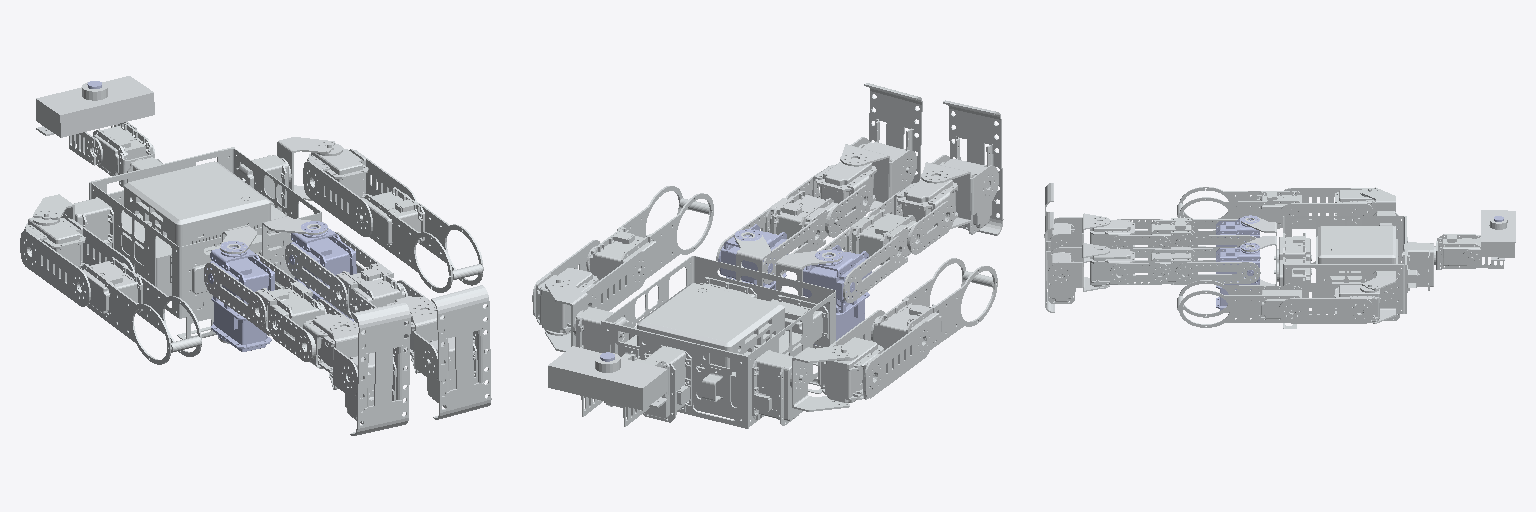
--- Facts derived from the render (not from the file) ---
The picture shows the robot from 3 angles, left to right: view 1: azimuth 30°, elevation 25°; view 2: azimuth 150°, elevation 25°; view 3: azimuth 270°, elevation 25°; orthographic projection.
Robot: webots_natasha — 22 links, 21 joints (21 continuous); root link TRUNK; default pose: all joints at 0.
Visible links, largest first — view 1: TRUNK, LFOOT_link, RFOOT_link, HEAD_1_link, RARM_2_link, LARM_2_link, RARM_1_link, LARM_1_link, LLEG_1_link, RLEG_1_link, RLEG_2_link, RLEG_3_link (+9 smaller); view 2: TRUNK, HEAD_1_link, RARM_1_link, LARM_1_link, LARM_2_link, RARM_2_link, RLEG_1_link, RFOOT_link, LLEG_1_link, RLEG_3_link, LFOOT_link, LLEG_3_link (+8 smaller); view 3: TRUNK, LARM_1_link, LARM_2_link, LLEG_1_link, RARM_1_link, LLEG_3_link, RARM_2_link, RLEG_1_link, HEAD_1_link, RLEG_3_link, LLEG_4_link, HEAD_0_link (+5 smaller).
Boxes of the visible links, box(x1,y1,x2,y2) form: TRUNK: box(73, 147, 321, 339); LFOOT_link: box(425, 285, 491, 419); RFOOT_link: box(345, 302, 410, 435); HEAD_1_link: box(36, 76, 154, 165); RARM_2_link: box(74, 257, 201, 364); LARM_2_link: box(358, 187, 483, 292); RARM_1_link: box(20, 212, 135, 306); LARM_1_link: box(303, 143, 417, 236); LLEG_1_link: box(285, 232, 407, 318); RLEG_1_link: box(204, 253, 326, 338); RLEG_2_link: box(205, 241, 274, 351); RLEG_3_link: box(268, 299, 351, 377); TRUNK: box(573, 256, 835, 428); HEAD_1_link: box(548, 346, 667, 426); RARM_1_link: box(818, 310, 933, 402); LARM_1_link: box(532, 240, 648, 335); LARM_2_link: box(586, 186, 713, 280); RARM_2_link: box(871, 258, 997, 350); RLEG_1_link: box(803, 209, 918, 302); RFOOT_link: box(940, 100, 1003, 235); LLEG_1_link: box(716, 191, 839, 283); RLEG_3_link: box(867, 175, 957, 254); LFOOT_link: box(859, 83, 922, 208); LLEG_3_link: box(786, 158, 876, 237); TRUNK: box(1274, 211, 1435, 328); LARM_1_link: box(1279, 283, 1379, 323); LARM_2_link: box(1177, 280, 1301, 327); LLEG_1_link: box(1151, 247, 1260, 284); RARM_1_link: box(1279, 188, 1375, 228); LLEG_3_link: box(1090, 248, 1170, 287); RARM_2_link: box(1177, 187, 1301, 230); RLEG_1_link: box(1151, 218, 1256, 250); HEAD_1_link: box(1470, 210, 1515, 268); RLEG_3_link: box(1090, 219, 1170, 250); LLEG_4_link: box(1048, 243, 1109, 291); HEAD_0_link: box(1436, 234, 1480, 269).
Size in the robot's own frame: 0.3871 by 0.6896 by 0.1681 metres.
22 mesh visuals loaded from 22 distinct referenced files (22 binary STL).

robot.urdf — webots_natasha:
<?xml version="1.0" encoding="utf-8"?>
<!-- This URDF was automatically created by SolidWorks to URDF Exporter! Originally created by Stephen Brawner ([email redacted]) 
     Commit Version: 1.6.0-1-g15f4949  Build Version: 1.6.7594.29634
     For more information, please see http://wiki.ros.org/sw_urdf_exporter -->
<robot
  name="webots_natasha">
  <link
    name="TRUNK">
    <inertial>
      <origin
        xyz="8.80812350529531E-05 0.0174189130631293 0.00119978114318642"
        rpy="0 0 0" />
      <mass
        value="2.0532534728131" />
      <inertia
        ixx="0.00187086094008197"
        ixy="3.71734862619082E-07"
        ixz="3.35795028816791E-07"
        iyy="0.00246636871242453"
        iyz="-3.76327841832146E-05"
        izz="0.00348484403758483" />
    </inertial>
    <visual>
      <origin
        xyz="0 0 0"
        rpy="0 0 0" />
      <geometry>
        <mesh
          filename="package://webots_natasha/meshes/TRUNK.STL" />
      </geometry>
      <material
        name="">
        <color
          rgba="0.898039215686275 0.917647058823529 0.929411764705882 1" />
      </material>
    </visual>
    <collision>
      <origin
        xyz="0 0 0"
        rpy="0 0 0" />
      <geometry>
        <mesh
          filename="package://webots_natasha/meshes/TRUNK.STL" />
      </geometry>
    </collision>
  </link>
  <link
    name="LARM_0_link">
    <inertial>
      <origin
        xyz="0.00940240087518626 -0.00459323020780422 2.5625727469919E-05"
        rpy="0 0 0" />
      <mass
        value="0.0227126661379003" />
      <inertia
        ixx="1.55987340377569E-05"
        ixy="1.67253121532138E-06"
        ixz="-9.33108665796419E-09"
        iyy="1.69257189782125E-05"
        iyz="-5.55483641362854E-08"
        izz="6.96937791863942E-06" />
    </inertial>
    <visual>
      <origin
        xyz="0 0 0"
        rpy="0 0 0" />
      <geometry>
        <mesh
          filename="package://webots_natasha/meshes/LARM_0_link.STL" />
      </geometry>
      <material
        name="">
        <color
          rgba="0.898039215686275 0.917647058823529 0.929411764705882 1" />
      </material>
    </visual>
    <collision>
      <origin
        xyz="0 0 0"
        rpy="0 0 0" />
      <geometry>
        <mesh
          filename="package://webots_natasha/meshes/LARM_0_link.STL" />
      </geometry>
    </collision>
  </link>
  <joint
    name="LARM_0"
    type="continuous">
    <origin
      xyz="0.1318 0.0615 0.0130000000000001"
      rpy="0 0 0" />
    <parent
      link="TRUNK" />
    <child
      link="LARM_0_link" />
    <axis
      xyz="-1 0 0" />
  </joint>
  <link
    name="LARM_1_link">
    <inertial>
      <origin
        xyz="2.69936341457111E-06 -0.0231641298245469 -0.0307096397868224"
        rpy="0 0 0" />
      <mass
        value="0.313942828750373" />
      <inertia
        ixx="0.000201312815423622"
        ixy="-5.05107454374458E-09"
        ixz="7.03025970863016E-09"
        iyy="7.42237915855182E-05"
        iyz="-2.86966238425839E-06"
        izz="0.000166600144989775" />
    </inertial>
    <visual>
      <origin
        xyz="0 0 0"
        rpy="0 0 0" />
      <geometry>
        <mesh
          filename="package://webots_natasha/meshes/LARM_1_link.STL" />
      </geometry>
      <material
        name="">
        <color
          rgba="0.898039215686275 0.917647058823529 0.929411764705882 1" />
      </material>
    </visual>
    <collision>
      <origin
        xyz="0 0 0"
        rpy="0 0 0" />
      <geometry>
        <mesh
          filename="package://webots_natasha/meshes/LARM_1_link.STL" />
      </geometry>
    </collision>
  </link>
  <joint
    name="LARM_1"
    type="continuous">
    <origin
      xyz="0.0338426329686678 -0.0236234517093273 0.0309322750601258"
      rpy="-0.00557896304881236 0 0" />
    <parent
      link="LARM_0_link" />
    <child
      link="LARM_1_link" />
    <axis
      xyz="0 -0.00557893410814587 0.999984437626015" />
  </joint>
  <link
    name="LARM_2_link">
    <inertial>
      <origin
        xyz="0.0306962270533953 -0.0274919403142502 -0.000520647910192906"
        rpy="0 0 0" />
      <mass
        value="0.281496848216382" />
      <inertia
        ixx="0.000156753433227665"
        ixy="2.86965668977682E-06"
        ixz="-7.03145337261327E-09"
        iyy="7.28961406660007E-05"
        iyz="4.98720536010235E-06"
        izz="0.000170904146038926" />
    </inertial>
    <visual>
      <origin
        xyz="0 0 0"
        rpy="0 0 0" />
      <geometry>
        <mesh
          filename="package://webots_natasha/meshes/LARM_2_link.STL" />
      </geometry>
      <material
        name="">
        <color
          rgba="0.898039215686275 0.917647058823529 0.929411764705882 1" />
      </material>
    </visual>
    <collision>
      <origin
        xyz="0 0 0"
        rpy="0 0 0" />
      <geometry>
        <mesh
          filename="package://webots_natasha/meshes/LARM_2_link.STL" />
      </geometry>
    </collision>
  </link>
  <joint
    name="LARM_2"
    type="continuous">
    <origin
      xyz="-0.0307 -0.113500031528617 -0.0307999828025723"
      rpy="0.00373494942577696 0 0" />
    <parent
      link="LARM_1_link" />
    <child
      link="LARM_2_link" />
    <axis
      xyz="-1 0 0" />
  </joint>
  <link
    name="RARM_0_link">
    <inertial>
      <origin
        xyz="-0.0094024008751864 -0.00459330169048298 -1.11022302462516E-16"
        rpy="0 0 0" />
      <mass
        value="0.0227126661379004" />
      <inertia
        ixx="1.5598734037757E-05"
        ixy="-1.67255724428274E-06"
        ixz="-3.87498910421191E-21"
        iyy="1.69260288836989E-05"
        iyz="-9.86871210932432E-21"
        izz="6.9690680131533E-06" />
    </inertial>
    <visual>
      <origin
        xyz="0 0 0"
        rpy="0 0 0" />
      <geometry>
        <mesh
          filename="package://webots_natasha/meshes/RARM_0_link.STL" />
      </geometry>
      <material
        name="">
        <color
          rgba="0.898039215686275 0.917647058823529 0.929411764705882 1" />
      </material>
    </visual>
    <collision>
      <origin
        xyz="0 0 0"
        rpy="0 0 0" />
      <geometry>
        <mesh
          filename="package://webots_natasha/meshes/RARM_0_link.STL" />
      </geometry>
    </collision>
  </link>
  <joint
    name="RARM_0"
    type="continuous">
    <origin
      xyz="-0.1318 0.0615 0.0130000000000001"
      rpy="0 0 0" />
    <parent
      link="TRUNK" />
    <child
      link="RARM_0_link" />
    <axis
      xyz="1 0 0" />
  </joint>
  <link
    name="RARM_1_link">
    <inertial>
      <origin
        xyz="2.7276139840382E-06 -0.0234065801315187 -0.0304535220772558"
        rpy="0 0 0" />
      <mass
        value="0.310690942542616" />
      <inertia
        ixx="0.000201125130689468"
        ixy="-5.05107366001799E-09"
        ixz="7.03026375288185E-09"
        iyy="7.40361068543428E-05"
        iyz="-2.86965668919047E-06"
        izz="0.000166229085720221" />
    </inertial>
    <visual>
      <origin
        xyz="0 0 0"
        rpy="0 0 0" />
      <geometry>
        <mesh
          filename="package://webots_natasha/meshes/RARM_1_link.STL" />
      </geometry>
      <material
        name="">
        <color
          rgba="0.898039215686275 0.917647058823529 0.929411764705882 1" />
      </material>
    </visual>
    <collision>
      <origin
        xyz="0 0 0"
        rpy="0 0 0" />
      <geometry>
        <mesh
          filename="package://webots_natasha/meshes/RARM_1_link.STL" />
      </geometry>
    </collision>
  </link>
  <joint
    name="RARM_1"
    type="continuous">
    <origin
      xyz="-0.0338426329686679 -0.0237956531967125 0.0307999999999999"
      rpy="0 0 0.00782300250560052" />
    <parent
      link="RARM_0_link" />
    <child
      link="RARM_1_link" />
    <axis
      xyz="0 0 1" />
  </joint>
  <link
    name="RARM_2_link">
    <inertial>
      <origin
        xyz="-0.0308311537115564 -0.0273506992114726 -0.000523962569397157"
        rpy="0 0 0" />
      <mass
        value="0.282950517834651" />
      <inertia
        ixx="0.000156898152501548"
        ixy="-2.86965669176101E-06"
        ixz="-7.03145069111552E-09"
        iyy="7.29711487587658E-05"
        iyz="4.99731421083855E-06"
        izz="0.00017097915418613" />
    </inertial>
    <visual>
      <origin
        xyz="0 0 0"
        rpy="0 0 0" />
      <geometry>
        <mesh
          filename="package://webots_natasha/meshes/RARM_2_link.STL" />
      </geometry>
      <material
        name="">
        <color
          rgba="0.898039215686275 0.917647058823529 0.929411764705882 1" />
      </material>
    </visual>
    <collision>
      <origin
        xyz="0 0 0"
        rpy="0 0 0" />
      <geometry>
        <mesh
          filename="package://webots_natasha/meshes/RARM_2_link.STL" />
      </geometry>
    </collision>
  </link>
  <joint
    name="RARM_2"
    type="continuous">
    <origin
      xyz="0.0307 -0.113500031528617 -0.0308000171974276"
      rpy="0.0178992667652849 0 0" />
    <parent
      link="RARM_1_link" />
    <child
      link="RARM_2_link" />
    <axis
      xyz="0.999969400471955 -0.00782166957684035 0.000140017103543219" />
  </joint>
  <link
    name="LLEG_0_link">
    <inertial>
      <origin
        xyz="0.0061201601702185 -0.0103947051970066 0.000159150199943475"
        rpy="0 0 0" />
      <mass
        value="0.0284955331549314" />
      <inertia
        ixx="5.85885511181256E-05"
        ixy="3.55586878465069E-06"
        ixz="1.21838941386473E-06"
        iyy="5.64262612619879E-05"
        iyz="9.24677152737366E-08"
        izz="1.17667691761212E-05" />
    </inertial>
    <visual>
      <origin
        xyz="0 0 0"
        rpy="0 0 0" />
      <geometry>
        <mesh
          filename="package://webots_natasha/meshes/LLEG_0_link.STL" />
      </geometry>
      <material
        name="">
        <color
          rgba="0.898039215686275 0.917647058823529 0.929411764705882 1" />
      </material>
    </visual>
    <collision>
      <origin
        xyz="0 0 0"
        rpy="0 0 0" />
      <geometry>
        <mesh
          filename="package://webots_natasha/meshes/LLEG_0_link.STL" />
      </geometry>
    </collision>
  </link>
  <joint
    name="LLEG_0"
    type="continuous">
    <origin
      xyz="0.024 -0.1028 -0.00200000000000009"
      rpy="0 0 0" />
    <parent
      link="TRUNK" />
    <child
      link="LLEG_0_link" />
    <axis
      xyz="0 1 0" />
  </joint>
  <link
    name="LLEG_2_link">
    <inertial>
      <origin
        xyz="4.84696185730632E-05 -0.0147653878990638 0.0547754285306541"
        rpy="0 0 0" />
      <mass
        value="0.181419971117388" />
      <inertia
        ixx="7.50577632887605E-05"
        ixy="-4.58251596389431E-07"
        ixz="-9.69786736504418E-14"
        iyy="4.76781981045591E-05"
        iyz="4.49008092003896E-07"
        izz="7.57823946481036E-05" />
    </inertial>
    <visual>
      <origin
        xyz="0 0 0"
        rpy="0 0 0" />
      <geometry>
        <mesh
          filename="package://webots_natasha/meshes/LLEG_2_link.STL" />
      </geometry>
      <material
        name="">
        <color
          rgba="0.792156862745098 0.819607843137255 0.933333333333333 1" />
      </material>
    </visual>
    <collision>
      <origin
        xyz="0 0 0"
        rpy="0 0 0" />
      <geometry>
        <mesh
          filename="package://webots_natasha/meshes/LLEG_2_link.STL" />
      </geometry>
    </collision>
  </link>
  <joint
    name="LLEG_2"
    type="continuous">
    <origin
      xyz="0.0254874966743732 -0.0342918830920367 -0.0533554715487941"
      rpy="0 -0.0259983948923962 0" />
    <parent
      link="LLEG_0_link" />
    <child
      link="LLEG_2_link" />
    <axis
      xyz="0.0259954662005367 0 0.999662060767046" />
  </joint>
  <link
    name="LLEG_1_link">
    <inertial>
      <origin
        xyz="-0.0301478736024178 -0.0955222192287401 -0.000991086420813109"
        rpy="0 0 0" />
      <mass
        value="0.129982121306577" />
      <inertia
        ixx="8.08701115078856E-05"
        ixy="-1.06333439815881E-06"
        ixz="-8.49932789829453E-09"
        iyy="2.79281577231703E-05"
        iyz="-5.90071071413239E-07"
        izz="8.47521728073395E-05" />
    </inertial>
    <visual>
      <origin
        xyz="0 0 0"
        rpy="0 0 0" />
      <geometry>
        <mesh
          filename="package://webots_natasha/meshes/LLEG_1_link.STL" />
      </geometry>
      <material
        name="">
        <color
          rgba="0.898039215686275 0.917647058823529 0.929411764705882 1" />
      </material>
    </visual>
    <collision>
      <origin
        xyz="0 0 0"
        rpy="0 0 0" />
      <geometry>
        <mesh
          filename="package://webots_natasha/meshes/LLEG_1_link.STL" />
      </geometry>
    </collision>
  </link>
  <joint
    name="LLEG_1"
    type="continuous">
    <origin
      xyz="0.031 0 0.0749999999999999"
      rpy="0 0 0" />
    <parent
      link="LLEG_2_link" />
    <child
      link="LLEG_1_link" />
    <axis
      xyz="-0.999662060767046 0 0.0259954662005255" />
  </joint>
  <link
    name="LLEG_3_link">
    <inertial>
      <origin
        xyz="0.0317059707820214 -0.0683888249973915 -0.000240671914321172"
        rpy="0 0 0" />
      <mass
        value="0.278860605706045" />
      <inertia
        ixx="0.000133797738994277"
        ixy="5.03612291279495E-09"
        ixz="-7.04098691271285E-09"
        iyy="6.80232951171385E-05"
        iyz="-2.79130258588534E-06"
        izz="0.000104900464634619" />
    </inertial>
    <visual>
      <origin
        xyz="0 0 0"
        rpy="0 0 0" />
      <geometry>
        <mesh
          filename="package://webots_natasha/meshes/LLEG_3_link.STL" />
      </geometry>
      <material
        name="">
        <color
          rgba="0.898039215686275 0.917647058823529 0.929411764705882 1" />
      </material>
    </visual>
    <collision>
      <origin
        xyz="0 0 0"
        rpy="0 0 0" />
      <geometry>
        <mesh
          filename="package://webots_natasha/meshes/LLEG_3_link.STL" />
      </geometry>
    </collision>
  </link>
  <joint
    name="LLEG_3"
    type="continuous">
    <origin
      xyz="-0.0608 -0.130992983804087 -0.00135580017118034"
      rpy="0.0103498044019774 0 0" />
    <parent
      link="LLEG_1_link" />
    <child
      link="LLEG_3_link" />
    <axis
      xyz="0.999662060767046 -0.000269043187204275 -0.0259940739159145" />
  </joint>
  <link
    name="LLEG_4_link">
    <inertial>
      <origin
        xyz="-0.000121453782604031 -0.0298479149198484 0.0307999999999998"
        rpy="0 0 0" />
      <mass
        value="0.0480935266273042" />
      <inertia
        ixx="3.4840016656442E-05"
        ixy="2.4048255447584E-09"
        ixz="-3.51518673110535E-20"
        iyy="3.54310055761895E-05"
        iyz="-1.37907551724841E-20"
        izz="3.83846336806515E-05" />
    </inertial>
    <visual>
      <origin
        xyz="0 0 0"
        rpy="0 0 0" />
      <geometry>
        <mesh
          filename="package://webots_natasha/meshes/LLEG_4_link.STL" />
      </geometry>
      <material
        name="">
        <color
          rgba="0.898039215686275 0.917647058823529 0.929411764705882 1" />
      </material>
    </visual>
    <collision>
      <origin
        xyz="0 0 0"
        rpy="0 0 0" />
      <geometry>
        <mesh
          filename="package://webots_natasha/meshes/LLEG_4_link.STL" />
      </geometry>
    </collision>
  </link>
  <joint
    name="LLEG_4"
    type="continuous">
    <origin
      xyz="0.0323000000000014 -0.0890652619287499 -0.0306107680001929"
      rpy="-0.0021254221797165 0 0" />
    <parent
      link="LLEG_3_link" />
    <child
      link="LLEG_4_link" />
    <axis
      xyz="0.0259954662005333 0.00822151019565023 0.99962825215533" />
  </joint>
  <link
    name="LFOOT_link">
    <inertial>
      <origin
        xyz="0.0307034864419428 -0.00347536885887512 -0.0116619863327337"
        rpy="0 0 0" />
      <mass
        value="0.282453842578357" />
      <inertia
        ixx="0.000173706647013576"
        ixy="6.06316953081889E-09"
        ixz="2.86965889372445E-06"
        iyy="0.000210076740177712"
        iyz="1.43527810421934E-07"
        izz="7.65871730722817E-05" />
    </inertial>
    <visual>
      <origin
        xyz="0 0 0"
        rpy="0 0 0" />
      <geometry>
        <mesh
          filename="package://webots_natasha/meshes/LFOOT_link.STL" />
      </geometry>
      <material
        name="">
        <color
          rgba="0.898039215686275 0.917647058823529 0.929411764705882 1" />
      </material>
    </visual>
    <collision>
      <origin
        xyz="0 0 0"
        rpy="0 0 0" />
      <geometry>
        <mesh
          filename="package://webots_natasha/meshes/LFOOT_link.STL" />
      </geometry>
    </collision>
  </link>
  <joint
    name="LFOOT"
    type="continuous">
    <origin
      xyz="-0.0311295366896684 -0.0563469987109144 0.0307999999999998"
      rpy="0 0 -0.00406906521311973" />
    <parent
      link="LLEG_4_link" />
    <child
      link="LFOOT_link" />
    <axis
      xyz="0.999654654870593 0.00385388642148247 -0.0259945870328077" />
  </joint>
  <link
    name="RLEG_0_link">
    <inertial>
      <origin
        xyz="-0.00612093234343749 -0.0103947051970067 0.000126002152092825"
        rpy="0 0 0" />
      <mass
        value="0.0284955331549314" />
      <inertia
        ixx="5.86003747542411E-05"
        ixy="-3.55631742432173E-06"
        ixz="-9.64743102318563E-07"
        iyy="5.64262612619874E-05"
        iyz="7.32083976504122E-08"
        izz="1.17549455400051E-05" />
    </inertial>
    <visual>
      <origin
        xyz="0 0 0"
        rpy="0 0 0" />
      <geometry>
        <mesh
          filename="package://webots_natasha/meshes/RLEG_0_link.STL" />
      </geometry>
      <material
        name="">
        <color
          rgba="0.898039215686275 0.917647058823529 0.929411764705882 1" />
      </material>
    </visual>
    <collision>
      <origin
        xyz="0 0 0"
        rpy="0 0 0" />
      <geometry>
        <mesh
          filename="package://webots_natasha/meshes/RLEG_0_link.STL" />
      </geometry>
    </collision>
  </link>
  <joint
    name="RLEG_0"
    type="continuous">
    <origin
      xyz="-0.024 -0.1028 -0.00200000000000003"
      rpy="0 0 0" />
    <parent
      link="TRUNK" />
    <child
      link="RLEG_0_link" />
    <axis
      xyz="0 1 0" />
  </joint>
  <link
    name="RLEG_2_link">
    <inertial>
      <origin
        xyz="0.00117579734068995 -0.0147653879017774 0.0547628288219899"
        rpy="0 0 0" />
      <mass
        value="0.181419971069418" />
      <inertia
        ixx="7.50580702197713E-05"
        ixy="-4.48913453206349E-07"
        ixz="1.49104490051886E-08"
        iyy="4.76781981066E-05"
        iyz="4.58344299005086E-07"
        izz="7.57820877076458E-05" />
    </inertial>
    <visual>
      <origin
        xyz="0 0 0"
        rpy="0 0 0" />
      <geometry>
        <mesh
          filename="package://webots_natasha/meshes/RLEG_2_link.STL" />
      </geometry>
      <material
        name="">
        <color
          rgba="0.792156862745098 0.819607843137255 0.933333333333333 1" />
      </material>
    </visual>
    <collision>
      <origin
        xyz="0 0 0"
        rpy="0 0 0" />
      <geometry>
        <mesh
          filename="package://webots_natasha/meshes/RLEG_2_link.STL" />
      </geometry>
    </collision>
  </link>
  <joint
    name="RLEG_2"
    type="continuous">
    <origin
      xyz="-0.0251981590091694 -0.0342918830920369 -0.0534927248648727"
      rpy="0 0 0" />
    <parent
      link="RLEG_0_link" />
    <child
      link="RLEG_2_link" />
    <axis
      xyz="0 0 1" />
  </joint>
  <link
    name="RLEG_1_link">
    <inertial>
      <origin
        xyz="-0.0302521263977411 -0.0955174673522552 0.00109993187524429"
        rpy="0 0 0" />
      <mass
        value="0.12998212130814" />
      <inertia
        ixx="8.08701115076108E-05"
        ixy="1.06329337198918E-06"
        ixz="1.26287689022512E-08"
        iyy="2.79325098778429E-05"
        iyz="4.24086479887378E-07"
        izz="8.47478206528449E-05" />
    </inertial>
    <visual>
      <origin
        xyz="0 0 0"
        rpy="0 0 0" />
      <geometry>
        <mesh
          filename="package://webots_natasha/meshes/RLEG_1_link.STL" />
      </geometry>
      <material
        name="">
        <color
          rgba="0.898039215686275 0.917647058823529 0.929411764705882 1" />
      </material>
    </visual>
    <collision>
      <origin
        xyz="0 0 0"
        rpy="0 0 0" />
      <geometry>
        <mesh
          filename="package://webots_natasha/meshes/RLEG_1_link.STL" />
      </geometry>
    </collision>
  </link>
  <joint
    name="RLEG_1"
    type="continuous">
    <origin
      xyz="0.0325370155904775 0 0.0743461002101994"
      rpy="0 0.0205825438496891 0" />
    <parent
      link="RLEG_2_link" />
    <child
      link="RLEG_1_link" />
    <axis
      xyz="-0.999788186922223 0 -0.0205810906118556" />
  </joint>
  <link
    name="RLEG_3_link">
    <inertial>
      <origin
        xyz="-0.0293957480217362 -0.0683881589993589 0.000219016556012502"
        rpy="0 0 0" />
      <mass
        value="0.278860605757011" />
      <inertia
        ixx="0.000133785204254445"
        ixy="-5.40106605528162E-08"
        ixz="-6.0188333635083E-07"
        iyy="6.80353270672478E-05"
        iyz="-2.86915281638763E-06"
        izz="0.000104900967458725" />
    </inertial>
    <visual>
      <origin
        xyz="0 0 0"
        rpy="0 0 0" />
      <geometry>
        <mesh
          filename="package://webots_natasha/meshes/RLEG_3_link.STL" />
      </geometry>
      <material
        name="">
        <color
          rgba="0.898039215686275 0.917647058823529 0.929411764705882 1" />
      </material>
    </visual>
    <collision>
      <origin
        xyz="0 0 0"
        rpy="0 0 0" />
      <geometry>
        <mesh
          filename="package://webots_natasha/meshes/RLEG_3_link.STL" />
      </geometry>
    </collision>
  </link>
  <joint
    name="RLEG_3"
    type="continuous">
    <origin
      xyz="0.000400000000000029 -0.130987555527201 0.00109061993325127"
      rpy="0 -0.0205825438496891 0" />
    <parent
      link="RLEG_1_link" />
    <child
      link="RLEG_3_link" />
    <axis
      xyz="-1 0 0" />
  </joint>
  <link
    name="RLEG_4_link">
    <inertial>
      <origin
        xyz="0.000633897590845055 -0.0298481620218619 0.0307934761572038"
        rpy="0 0 0" />
      <mass
        value="0.048093526627304" />
      <inertia
        ixx="3.48415083085952E-05"
        ixy="-1.0838901707199E-20"
        ixz="7.29368333065604E-08"
        iyy="3.54310153616355E-05"
        iyz="-1.55652952645513E-22"
        izz="3.8383132243052E-05" />
    </inertial>
    <visual>
      <origin
        xyz="0 0 0"
        rpy="0 0 0" />
      <geometry>
        <mesh
          filename="package://webots_natasha/meshes/RLEG_4_link.STL" />
      </geometry>
      <material
        name="">
        <color
          rgba="0.898039215686275 0.917647058823529 0.929411764705882 1" />
      </material>
    </visual>
    <collision>
      <origin
        xyz="0 0 0"
        rpy="0 0 0" />
      <geometry>
        <mesh
          filename="package://webots_natasha/meshes/RLEG_4_link.STL" />
      </geometry>
    </collision>
  </link>
  <joint
    name="RLEG_4"
    type="continuous">
    <origin
      xyz="-0.0294277973742024 -0.0889999999999709 -0.0302007407474649"
      rpy="0 0 0" />
    <parent
      link="RLEG_3_link" />
    <child
      link="RLEG_4_link" />
    <axis
      xyz="0 0 1" />
  </joint>
  <link
    name="RFOOT_link">
    <inertial>
      <origin
        xyz="-0.03065079086276 -0.00351375417937383 -0.0111681670416859"
        rpy="0 0 0" />
      <mass
        value="0.27920195637673" />
      <inertia
        ixx="0.000173176431087645"
        ixy="8.84896238430981E-09"
        ixz="-4.8618553677078E-06"
        iyy="0.000209889137057972"
        iyz="8.82506845066779E-08"
        izz="7.65585633822312E-05" />
    </inertial>
    <visual>
      <origin
        xyz="0 0 0"
        rpy="0 0 0" />
      <geometry>
        <mesh
          filename="package://webots_natasha/meshes/RFOOT_link.STL" />
      </geometry>
      <material
        name="">
        <color
          rgba="0.898039215686275 0.917647058823529 0.929411764705882 1" />
      </material>
    </visual>
    <collision>
      <origin
        xyz="0 0 0"
        rpy="0 0 0" />
      <geometry>
        <mesh
          filename="package://webots_natasha/meshes/RFOOT_link.STL" />
      </geometry>
    </collision>
  </link>
  <joint
    name="RFOOT"
    type="continuous">
    <origin
      xyz="0.0314273737480497 -0.0564731999999999 0.0301595785663589"
      rpy="0 0 0" />
    <parent
      link="RLEG_4_link" />
    <child
      link="RFOOT_link" />
    <axis
      xyz="-1 0 0" />
  </joint>
  <link
    name="HEAD_0_link">
    <inertial>
      <origin
        xyz="-0.000459940926986584 0.0295842069158784 0.00648795528473847"
        rpy="0 0 0" />
      <mass
        value="0.0830604003158799" />
      <inertia
        ixx="2.60553048517388E-05"
        ixy="-8.80469004186944E-07"
        ixz="7.36642794740697E-09"
        iyy="1.92571871074488E-05"
        iyz="-1.63157149383289E-08"
        izz="3.15983218764179E-05" />
    </inertial>
    <visual>
      <origin
        xyz="0 0 0"
        rpy="0 0 0" />
      <geometry>
        <mesh
          filename="package://webots_natasha/meshes/HEAD_0_link.STL" />
      </geometry>
      <material
        name="">
        <color
          rgba="0.898039215686275 0.917647058823529 0.929411764705882 1" />
      </material>
    </visual>
    <collision>
      <origin
        xyz="0 0 0"
        rpy="0 0 0" />
      <geometry>
        <mesh
          filename="package://webots_natasha/meshes/HEAD_0_link.STL" />
      </geometry>
    </collision>
  </link>
  <joint
    name="HEAD_0"
    type="continuous">
    <origin
      xyz="0 0.1398 0.0129999999999998"
      rpy="0 0 0" />
    <parent
      link="TRUNK" />
    <child
      link="HEAD_0_link" />
    <axis
      xyz="0 1 0" />
  </joint>
  <link
    name="HEAD_1_link">
    <inertial>
      <origin
        xyz="-0.0279838437433484 0.0375868624296965 0.0261081968285957"
        rpy="0 0 0" />
      <mass
        value="0.162523995997902" />
      <inertia
        ixx="4.36509350799157E-05"
        ixy="-3.86401534823018E-10"
        ixz="8.10816450318058E-08"
        iyy="0.000152599291712245"
        iyz="-6.24210103475762E-07"
        izz="0.000174633754973691" />
    </inertial>
    <visual>
      <origin
        xyz="0 0 0"
        rpy="0 0 0" />
      <geometry>
        <mesh
          filename="package://webots_natasha/meshes/HEAD_1_link.STL" />
      </geometry>
      <material
        name="">
        <color
          rgba="0.898039215686275 0.917647058823529 0.929411764705882 1" />
      </material>
    </visual>
    <collision>
      <origin
        xyz="0 0 0"
        rpy="0 0 0" />
      <geometry>
        <mesh
          filename="package://webots_natasha/meshes/HEAD_1_link.STL" />
      </geometry>
    </collision>
  </link>
  <joint
    name="HEAD_1"
    type="continuous">
    <origin
      xyz="0.0280043278080914 0.0472 0.00698266596773467"
      rpy="0 0 0" />
    <parent
      link="HEAD_0_link" />
    <child
      link="HEAD_1_link" />
    <axis
      xyz="-1 0 0" />
  </joint>
  <link
    name="CAM_link">
    <inertial>
      <origin
        xyz="-9.19825971977279E-07 -4.07517424373116E-05 -0.00148592749618398"
        rpy="0 0 0" />
      <mass
        value="0.0005230751768227" />
      <inertia
        ixx="7.84102792145359E-09"
        ixy="1.19788619467128E-13"
        ixz="4.36784276573896E-12"
        iyy="7.84633230302997E-09"
        iyz="1.93511825952827E-10"
        izz="1.48970313126617E-08" />
    </inertial>
    <visual>
      <origin
        xyz="0 0 0"
        rpy="0 0 0" />
      <geometry>
        <mesh
          filename="package://webots_natasha/meshes/CAM_link.STL" />
      </geometry>
      <material
        name="">
        <color
          rgba="0.792156862745098 0.819607843137255 0.933333333333333 1" />
      </material>
    </visual>
    <collision>
      <origin
        xyz="0 0 0"
        rpy="0 0 0" />
      <geometry>
        <mesh
          filename="package://webots_natasha/meshes/CAM_link.STL" />
      </geometry>
    </collision>
  </link>
  <joint
    name="CAM"
    type="continuous">
    <origin
      xyz="-0.0279666059511939 0.0394935319232592 0.0539548875246459"
      rpy="0 0 0" />
    <parent
      link="HEAD_1_link" />
    <child
      link="CAM_link" />
    <axis
      xyz="0 1 0" />
  </joint>
</robot>
